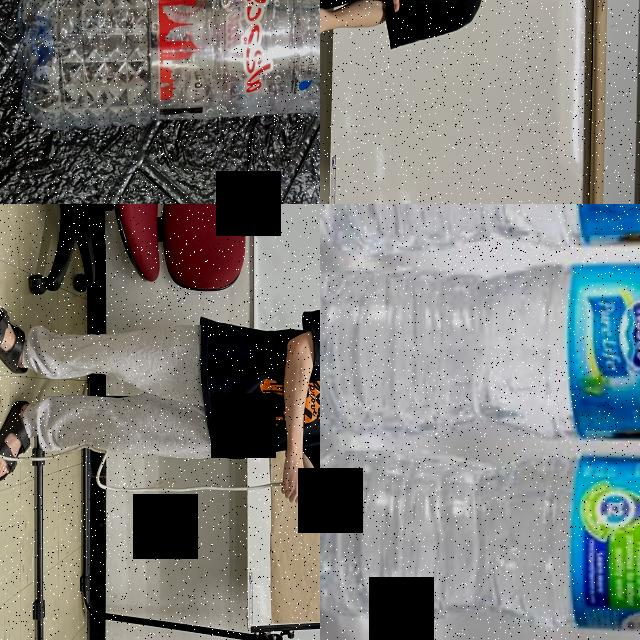bottle: (320, 252, 640, 445), (320, 448, 640, 634), (21, 0, 320, 147)
